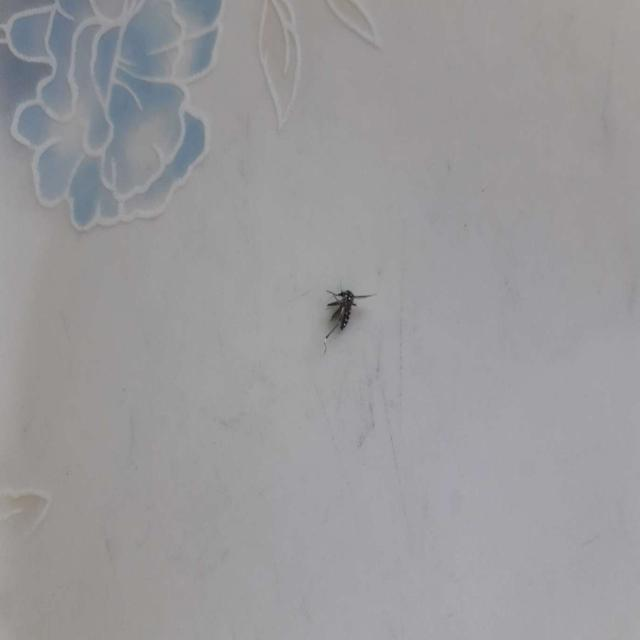albopictus: (315, 271, 378, 353)
